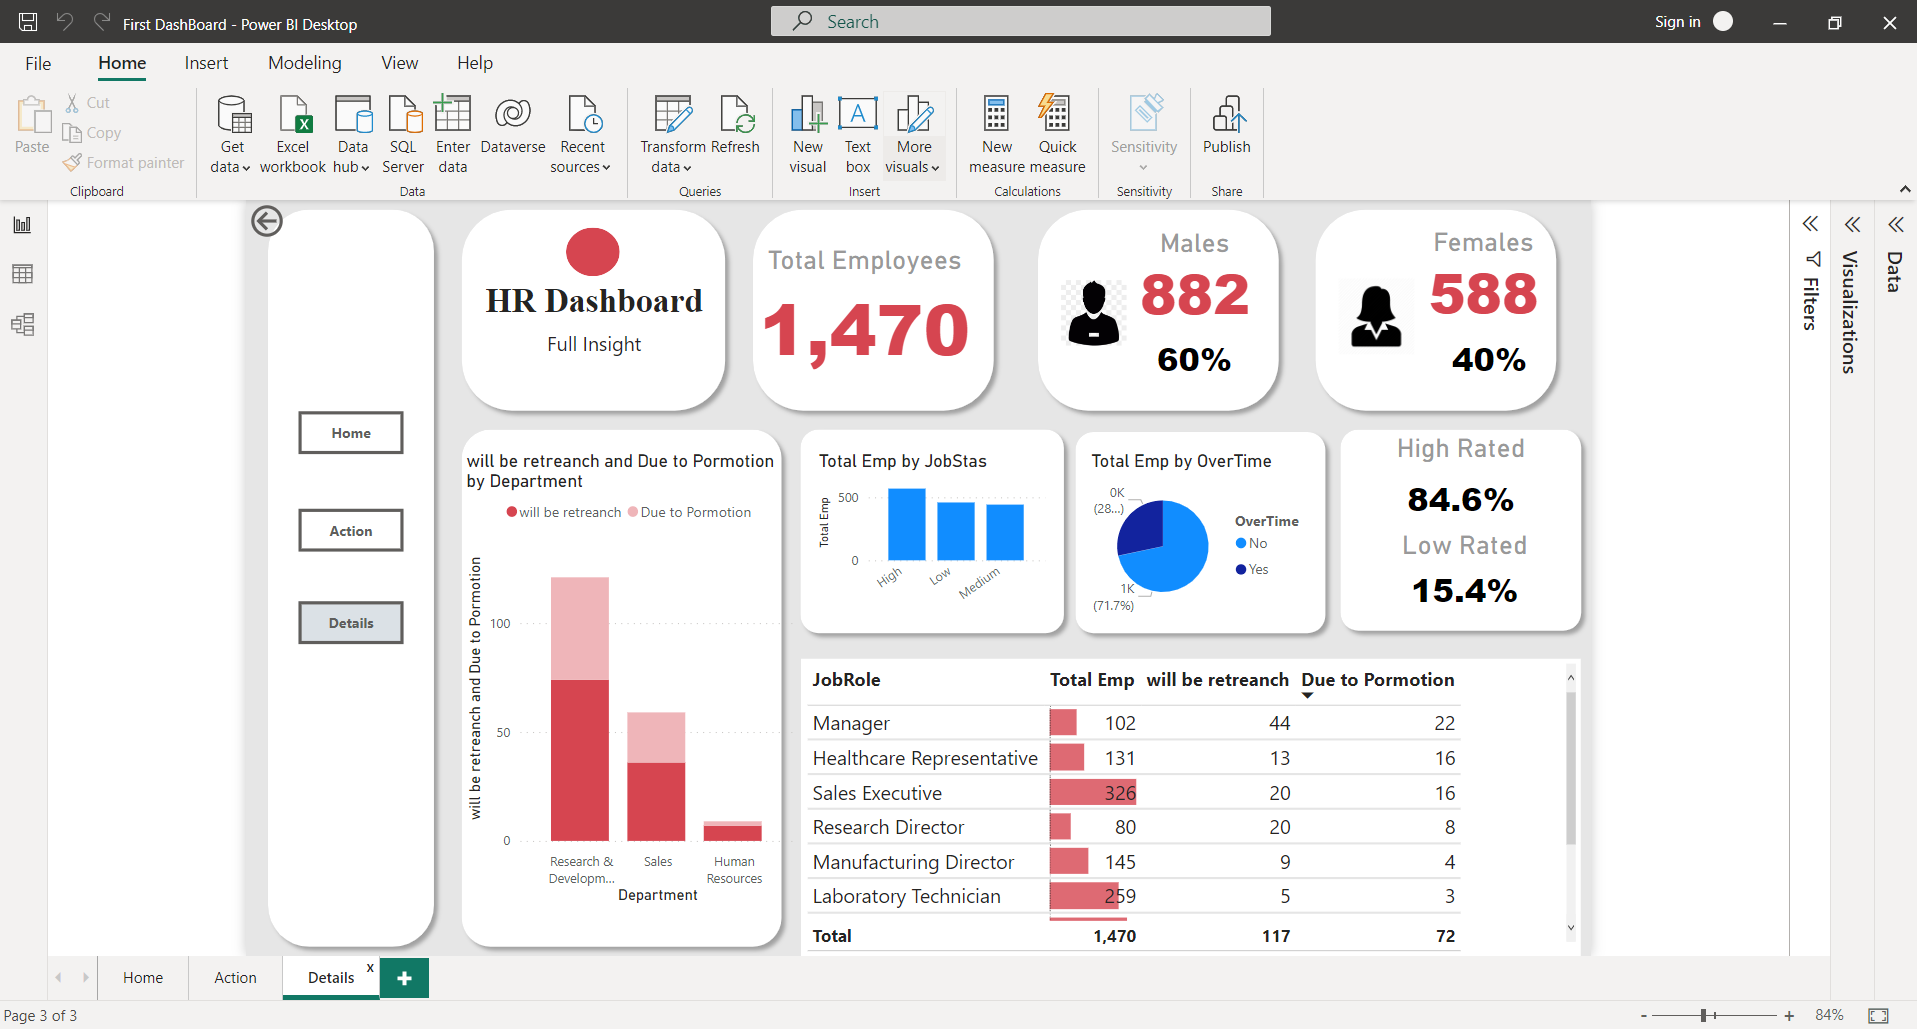

What the dashboard file says about the page in this screenshot:
{"tool":"powerbi","page":{"name":"Details","canvas":[1280,720],"ordinal":2},"visuals":[{"type":"shape","box":[11.9,0,176.1,720],"z":0},{"type":"shape","box":[1009.2,0,247.5,209.5],"z":1000},{"type":"shape","box":[745,0,247.5,209.5],"z":2000},{"type":"shape","box":[196.4,0,269,209.5],"z":3000},{"type":"shape","box":[473.7,0,247.5,209.5],"z":4000},{"type":"textbox","box":[213,72.6,236.8,64.3],"z":5000},{"type":"textbox","box":[213,119,236.8,54.7],"z":6000},{"type":"shape","box":[304.7,26.2,51.2,46.4],"z":7000},{"type":"card","title":"Total Employees","fields":{"Values":["All Measure.Total Emp"]},"box":[482,42.8,214.2,123.8],"z":8000},{"type":"card","title":" Males","fields":{"Values":["All Measure.Male"]},"box":[843.8,26.2,119,94],"z":9000},{"type":"card","title":" Males","fields":{"Values":["All Measure.% male"]},"box":[830.7,104.7,145.2,94],"z":10000},{"type":"card","title":" Females","fields":{"Values":["All Measure.Female"]},"box":[1118.7,25,119,94],"z":11000},{"type":"card","title":" Males","fields":{"Values":["All Measure.% female"]},"box":[1111.5,104.7,145.2,94],"z":12000},{"type":"image","box":[1033,69,85.7,83.3],"z":13000},{"type":"image","box":[771.2,69,72.6,77.4],"z":14000},{"type":"actionButton","box":[0,0,100,40],"z":15000},{"type":"shape","box":[196.4,209.5,322.5,510.5],"z":16000},{"type":"columnChart","fields":{"Category":["HR Analytics Data.Department"],"Y":["All Measure.will be retreanch","All Measure.Due to Pormotion"]},"box":[204.7,238,323.7,436.8],"z":17000},{"type":"shape","box":[518.9,209.5,269,211.8],"z":18000},{"type":"clusteredColumnChart","fields":{"Y":["All Measure.Total Emp"],"Category":["HR Analytics Data.JobStas"]},"box":[540.3,238,226.1,155.9],"z":19000},{"type":"shape","box":[780.7,211.8,255.9,209.5],"z":20000},{"type":"shape","box":[1033,209.5,247.5,209.5],"z":21000},{"type":"pieChart","fields":{"Category":["HR Analytics Data.OverTime"],"Y":["All Measure.Total Emp"]},"box":[799.7,238,217.8,164.2],"z":22000},{"type":"tableEx","fields":{"Values":["HR Analytics Data.JobRole","All Measure.Total Emp","All Measure.will be retreanch","All Measure.Due to Pormotion"]},"box":[528.4,436.8,742.6,283.2],"z":23000},{"type":"card","title":"Low Rated","fields":{"Values":["All Measure.% Low rating"]},"box":[1058,314.2,204.7,85.7],"z":24000},{"type":"card","title":"High Rated","fields":{"Values":["All Measure.% High rating"]},"box":[1050.8,221.4,211.8,98.8],"z":25000},{"type":"actionButton","box":[50,382,100,40.5],"z":26000},{"type":"actionButton","box":[50,294,100,40.5],"z":27000},{"type":"actionButton","box":[50,201.1,100,40.5],"z":28000}]}

Visuals, with their boxes on the page's 1280x720 design canvas (x1, y1, x2, y2). These are canvas units, not pixel positions in the 1917x1029 screenshot, which may show the page scaled, cropped or inside an application window:
shape: [left=12, top=0, right=188, bottom=720]
shape: [left=1009, top=0, right=1257, bottom=210]
shape: [left=745, top=0, right=992, bottom=210]
shape: [left=196, top=0, right=465, bottom=210]
shape: [left=474, top=0, right=721, bottom=210]
textbox: [left=213, top=73, right=450, bottom=137]
textbox: [left=213, top=119, right=450, bottom=174]
shape: [left=305, top=26, right=356, bottom=73]
"Total Employees" card: [left=482, top=43, right=696, bottom=167]
" Males" card: [left=844, top=26, right=963, bottom=120]
" Males" card: [left=831, top=105, right=976, bottom=199]
" Females" card: [left=1119, top=25, right=1238, bottom=119]
" Males" card: [left=1112, top=105, right=1257, bottom=199]
image: [left=1033, top=69, right=1119, bottom=152]
image: [left=771, top=69, right=844, bottom=146]
actionButton: [left=0, top=0, right=100, bottom=40]
shape: [left=196, top=210, right=519, bottom=720]
columnChart - HR Analytics Data.Department x All Measure.will be retreanch: [left=205, top=238, right=528, bottom=675]
shape: [left=519, top=210, right=788, bottom=421]
clusteredColumnChart - All Measure.Total Emp x HR Analytics Data.JobStas: [left=540, top=238, right=766, bottom=394]
shape: [left=781, top=212, right=1037, bottom=421]
shape: [left=1033, top=210, right=1280, bottom=419]
pieChart - HR Analytics Data.OverTime x All Measure.Total Emp: [left=800, top=238, right=1018, bottom=402]
tableEx - HR Analytics Data.JobRole x All Measure.Total Emp: [left=528, top=437, right=1271, bottom=720]
"Low Rated" card: [left=1058, top=314, right=1263, bottom=400]
"High Rated" card: [left=1051, top=221, right=1263, bottom=320]
actionButton: [left=50, top=382, right=150, bottom=422]
actionButton: [left=50, top=294, right=150, bottom=334]
actionButton: [left=50, top=201, right=150, bottom=242]
